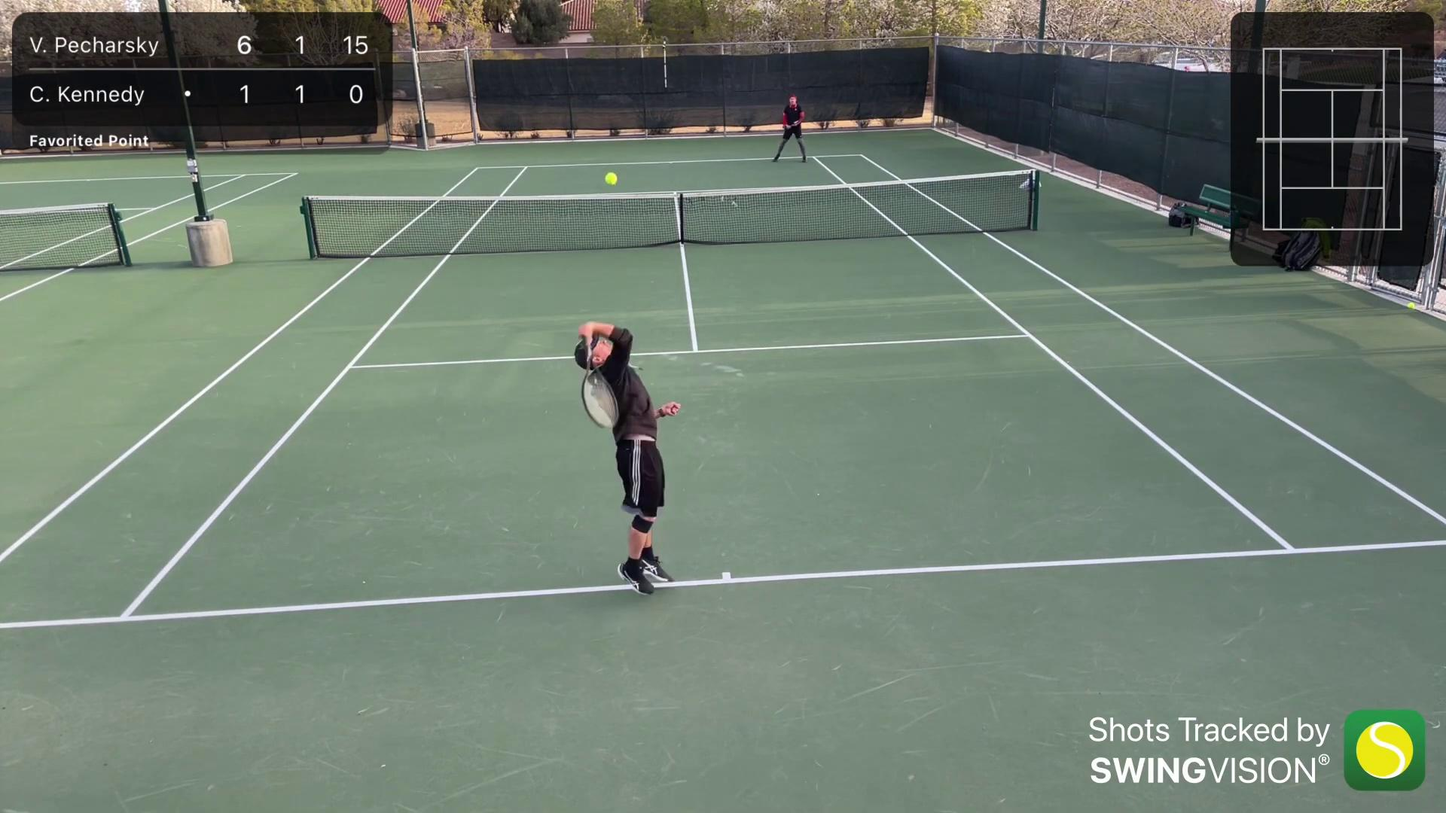ball: (602, 170, 619, 188)
